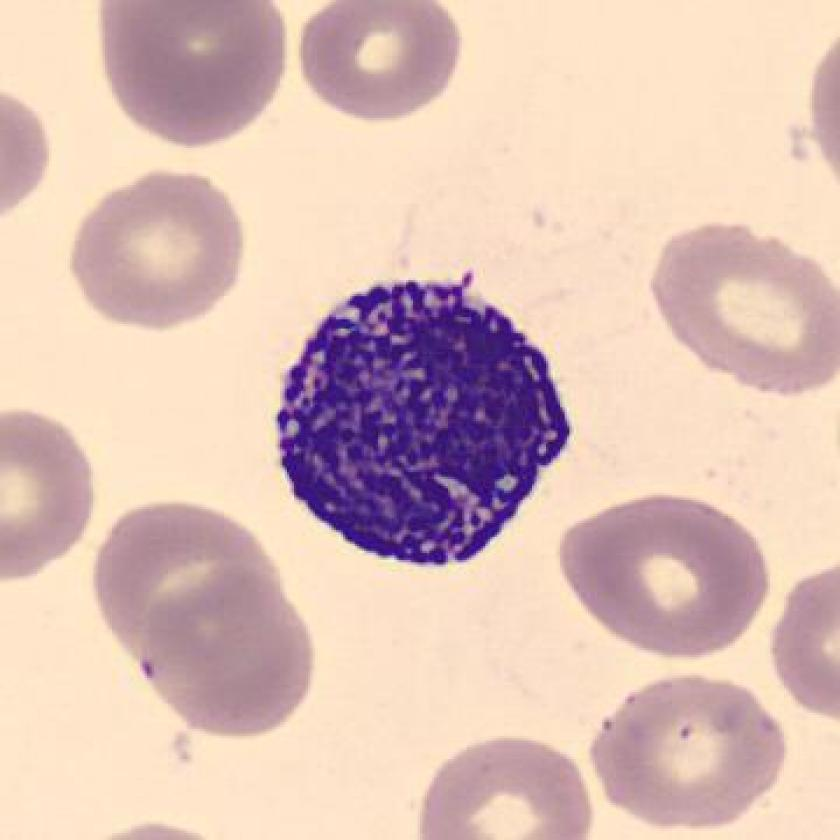basophil: (256, 263, 578, 584)
